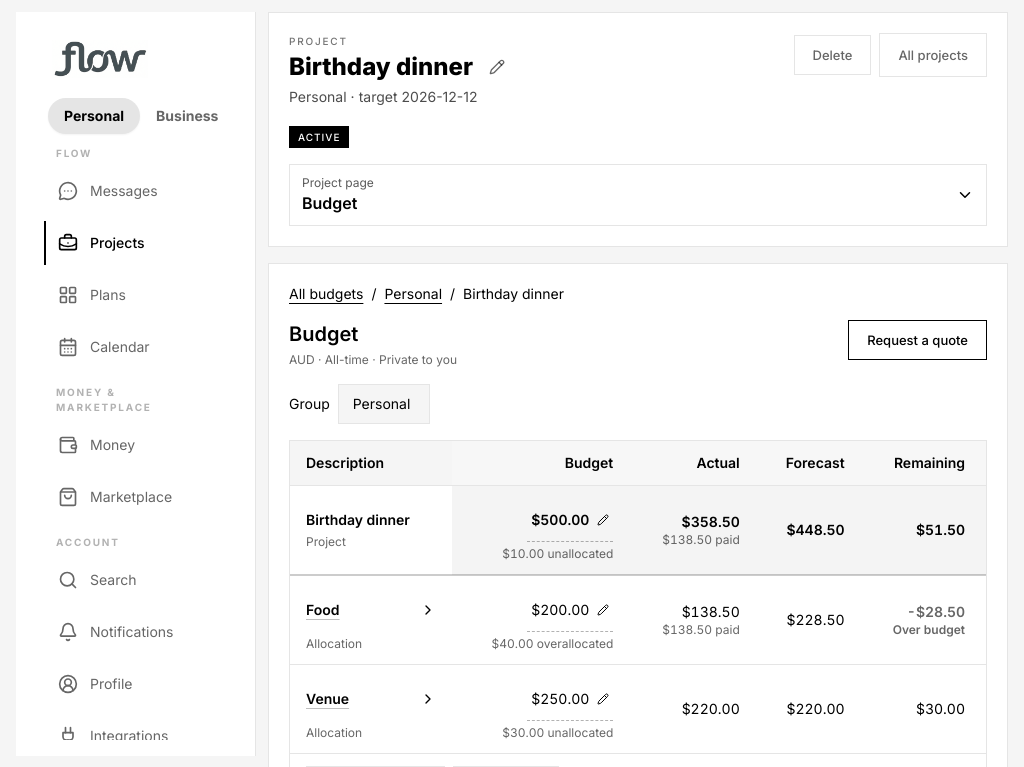
Scenario: combines project budgets, allocations and costs in one navigable table
The width and height of the screenshot is (1024, 767).
Expected: the button named "Edit budget for Birthday dinner" is shown, [527,498,613,542]
Click the button with aria-label "Open Food budget" at (371, 610), box [306,588,436,632]
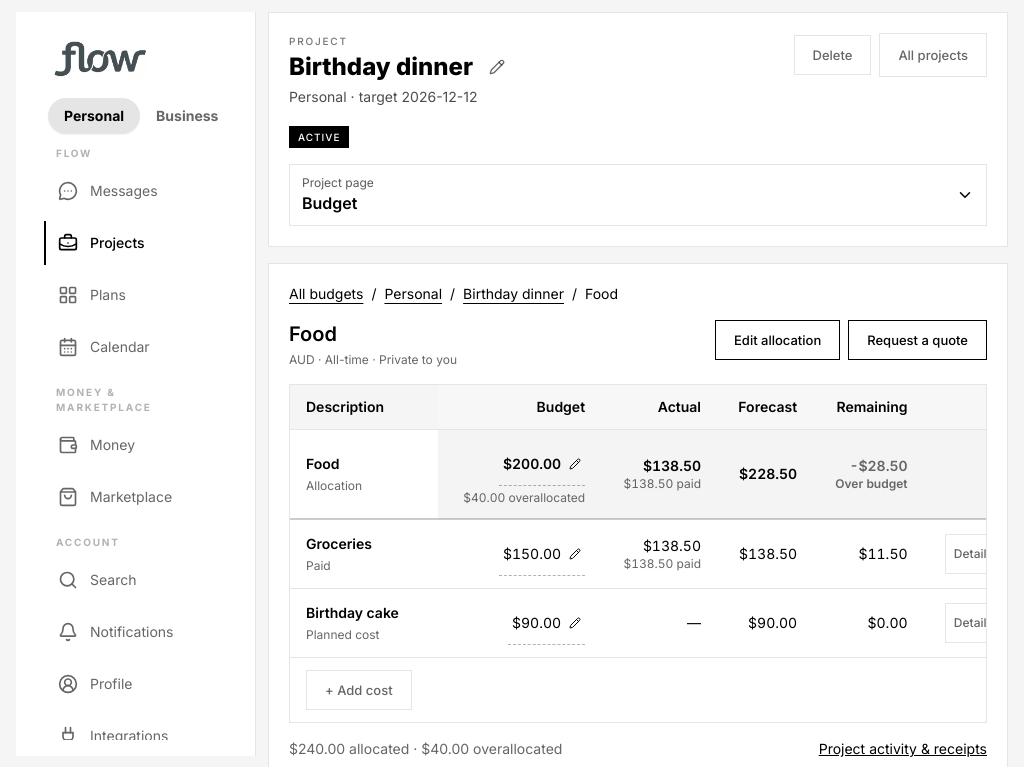
Expected: the heading "Food" is shown, [289,322,337,346]
Expected: the button named "Edit budget for Food" is shown, [499,442,585,486]
Click the button "Birthday dinner" at (514, 294), box [463,284,564,304]
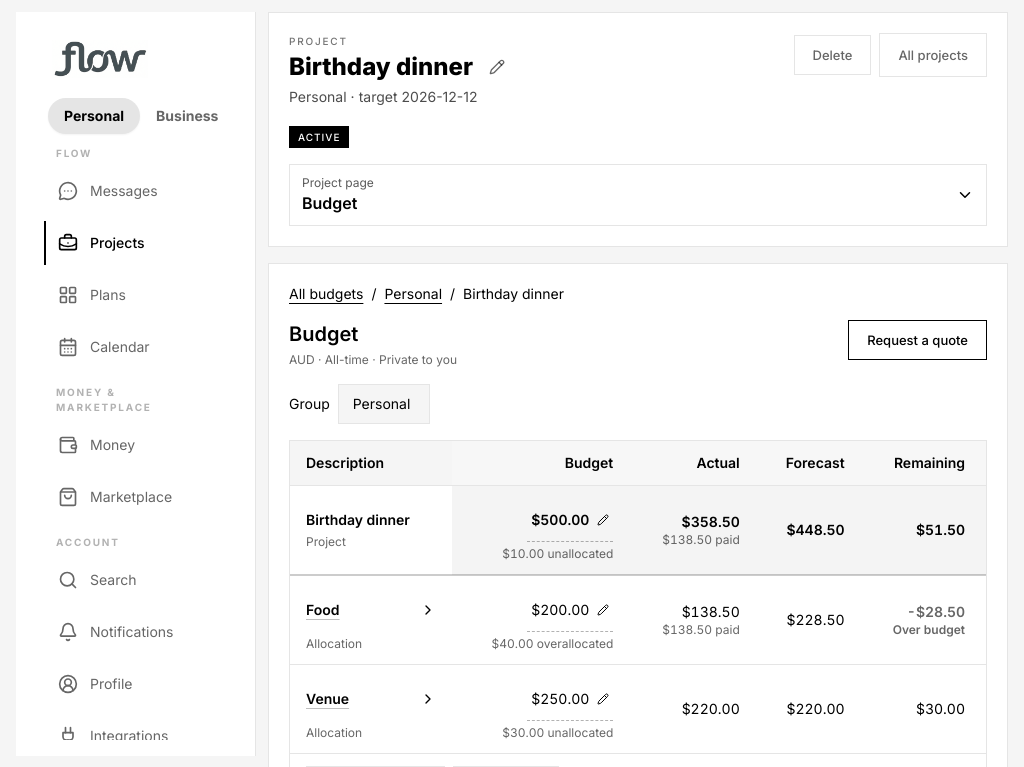
Expected: the heading "Budget" is shown, [289,322,358,346]
